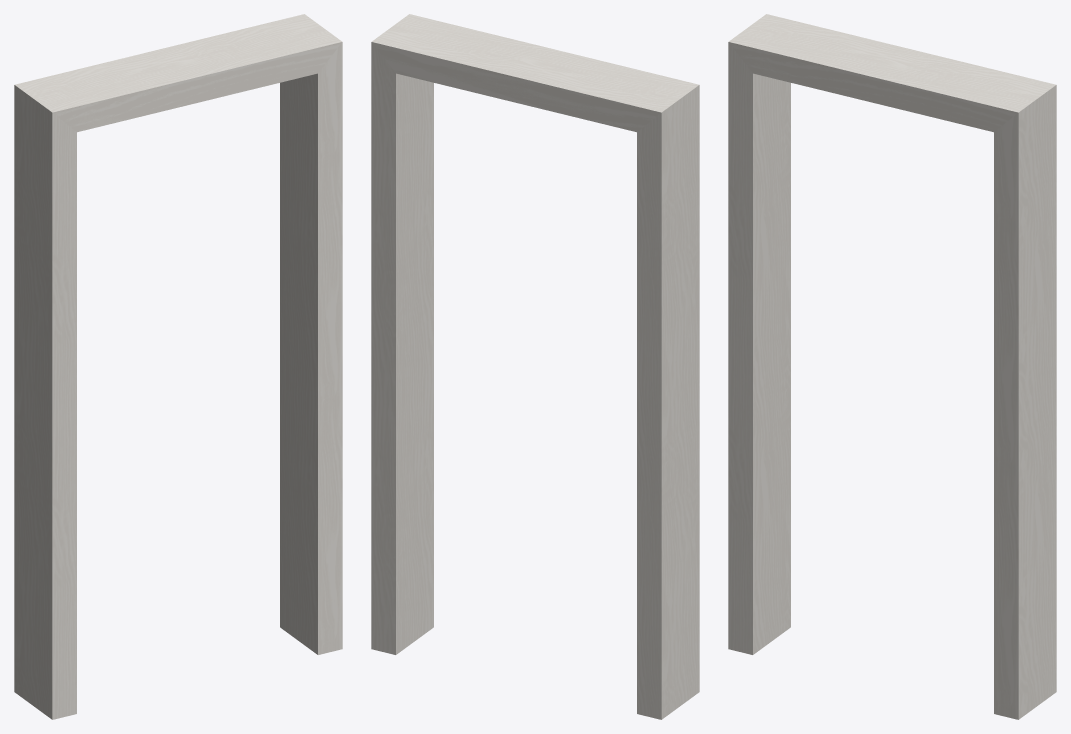
The model's file is door_026.fbx.
3 renders of one model, left to right at view 1: azimuth 30°, elevation 25°; view 2: azimuth 150°, elevation 25°; view 3: azimuth 330°, elevation 25°, orthographic.
Visible parts, largest first — view 1: door_026; view 2: door_026; view 3: door_026.
Part boxes in pixels (x1,y1,x2,y2): door_026: (14, 14, 342, 719); door_026: (371, 14, 699, 719); door_026: (728, 14, 1056, 719).
Size of the model in its own units: 115 by 26.01 by 229.
